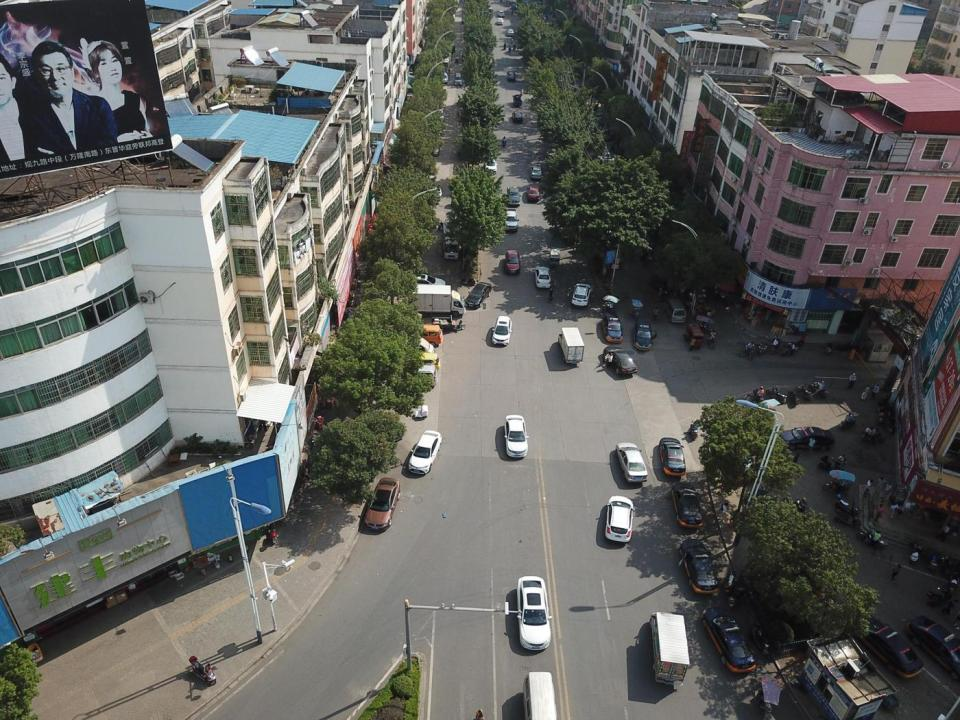car: (702, 608, 758, 673), (860, 622, 924, 678), (906, 616, 960, 680), (518, 576, 552, 652), (679, 539, 720, 594), (362, 477, 399, 533), (409, 430, 444, 476), (604, 495, 634, 543), (671, 483, 703, 528), (615, 442, 649, 483), (777, 426, 835, 450), (503, 414, 529, 458), (660, 437, 687, 476), (603, 347, 638, 376), (633, 322, 658, 352), (466, 281, 491, 309), (602, 315, 623, 343), (405, 274, 446, 288), (492, 316, 511, 346), (572, 283, 592, 307), (686, 324, 704, 348), (504, 250, 520, 274), (534, 267, 551, 288), (503, 209, 519, 231), (507, 186, 520, 206), (526, 185, 540, 202), (485, 156, 498, 173), (428, 138, 440, 156), (531, 165, 542, 180), (436, 71, 449, 83), (434, 107, 445, 121), (432, 183, 442, 198), (512, 112, 523, 122), (507, 71, 516, 81), (508, 28, 515, 36), (498, 10, 505, 17), (497, 18, 503, 25)
truck: (650, 612, 690, 686), (395, 285, 466, 317), (558, 328, 584, 363), (443, 219, 459, 260), (440, 52, 451, 71)
van: (523, 670, 558, 720), (405, 324, 443, 347), (404, 364, 438, 386), (400, 352, 439, 371), (392, 338, 435, 355), (667, 298, 687, 324), (549, 247, 560, 265), (455, 72, 462, 86)
